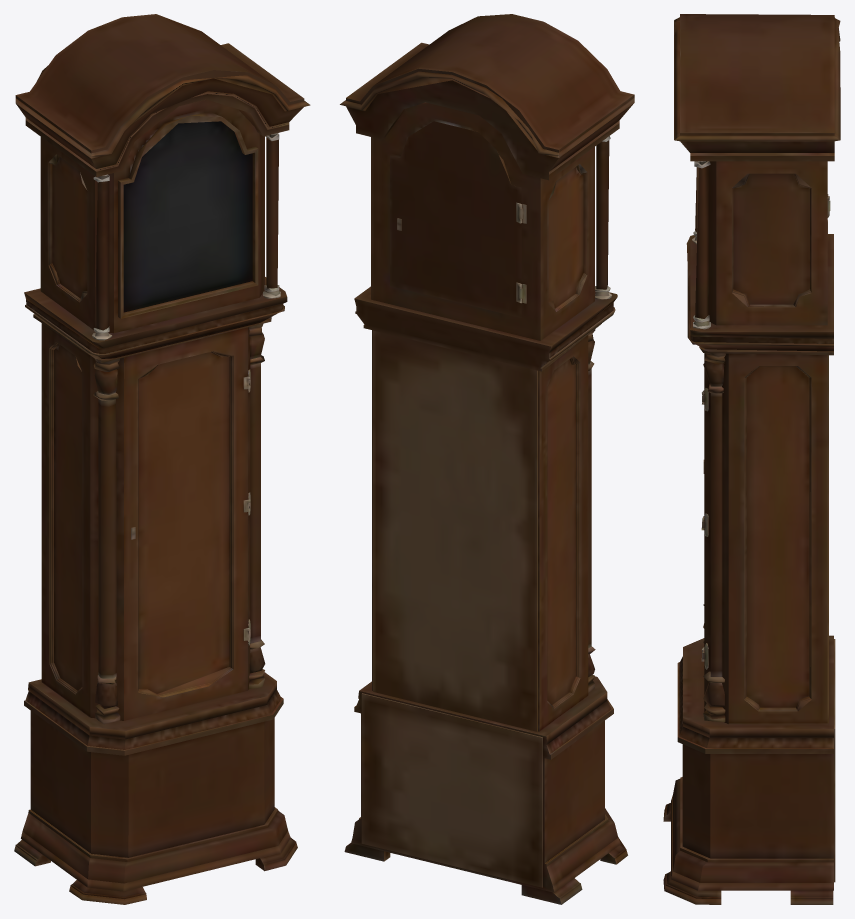
Rendered from vintage_grandfather_clock_01.glb.
The picture shows the model from 3 angles, left to right: view 1: azimuth 30°, elevation 25°; view 2: azimuth 150°, elevation 25°; view 3: azimuth 270°, elevation 25°; orthographic projection. The views are drawn at different scales.
Visible parts, largest first — view 1: vintage_grandfather_clock_01_Body; view 2: vintage_grandfather_clock_01_Body; view 3: vintage_grandfather_clock_01_Body.
Part boxes in pixels (bbox=[...]): vintage_grandfather_clock_01_Body: bbox=[14, 14, 310, 904]; vintage_grandfather_clock_01_Body: bbox=[340, 14, 634, 904]; vintage_grandfather_clock_01_Body: bbox=[663, 14, 840, 904].
Bounding box in the file's own units: 0.6213 × 2.19 × 0.4265.
2 materials, 2 textured.
